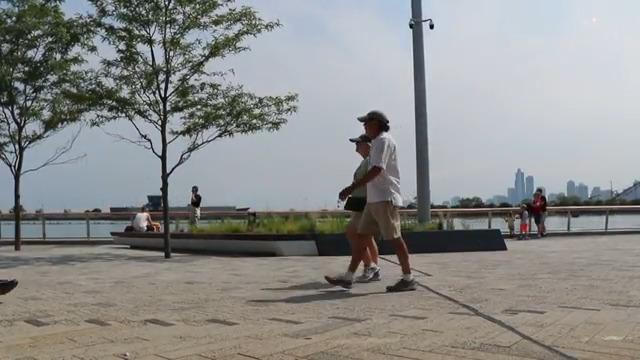no-helmet: (357, 110, 390, 141), (349, 134, 371, 159)
